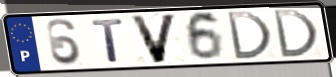6: (183, 10, 227, 65), (45, 18, 83, 68)
D: (270, 8, 321, 59), (224, 10, 275, 61)
T: (90, 17, 127, 64)
V: (127, 13, 180, 66)
